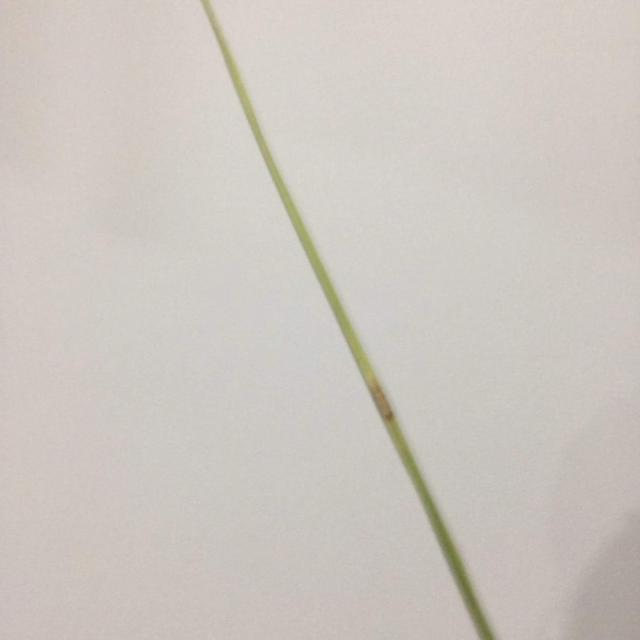Blast: (378, 389, 394, 420)
